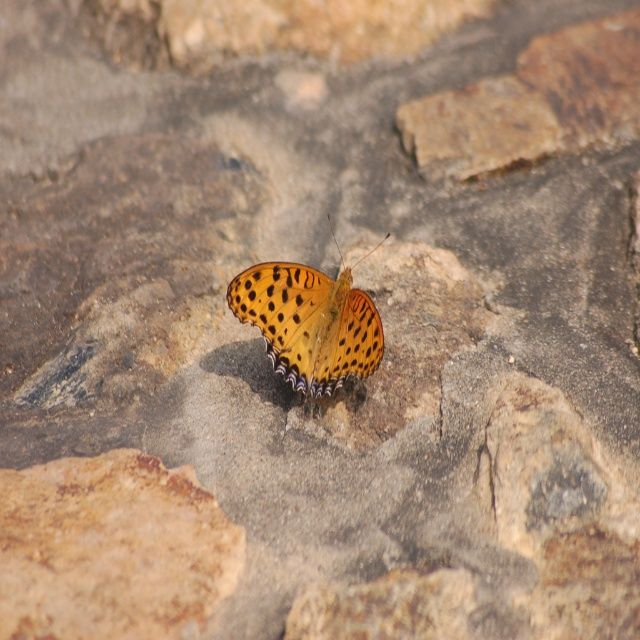Butterfly: (233, 243, 384, 415)
